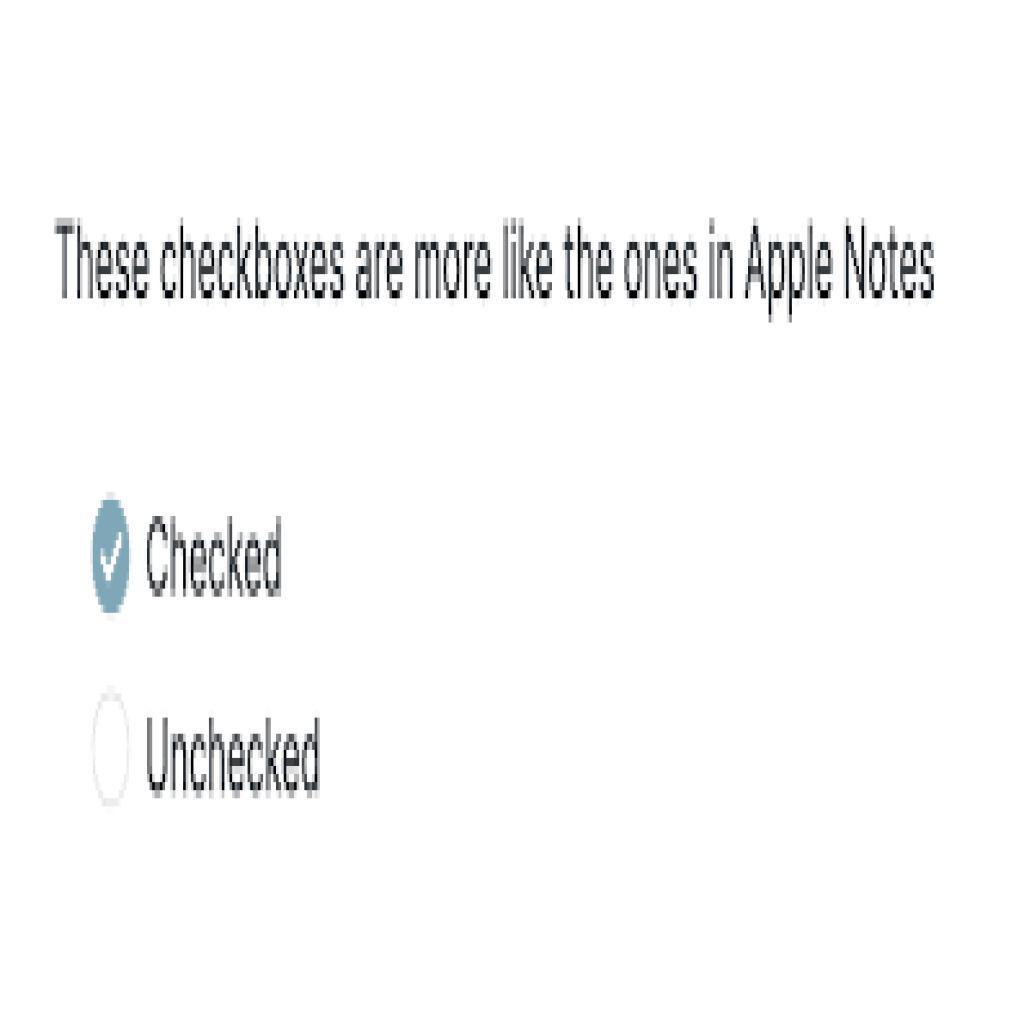checkbox: (85, 490, 137, 625)
radio: (88, 689, 138, 810)
